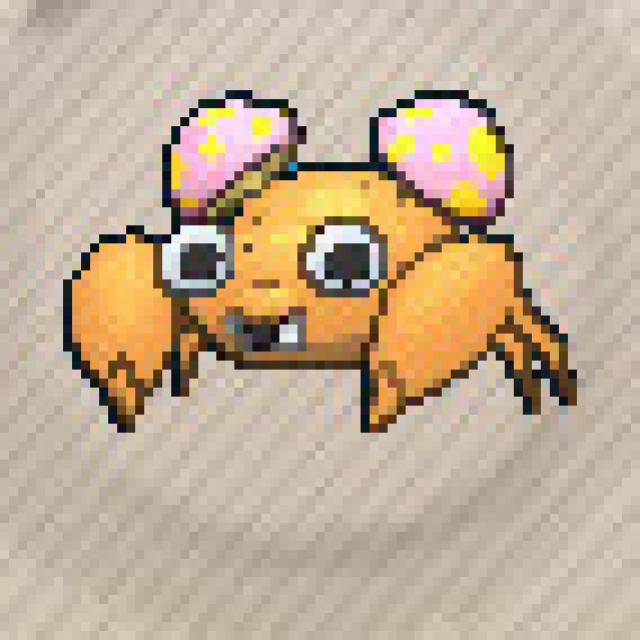Paras: (67, 83, 523, 415)
